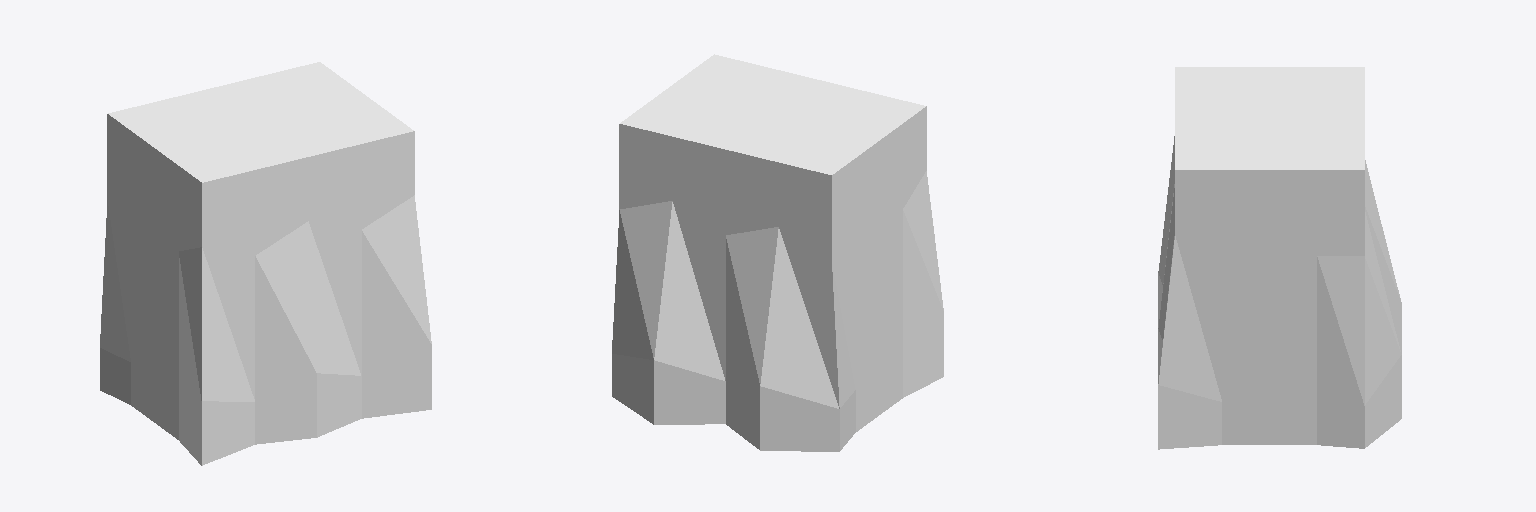
3 renders of one model, left to right at view 1: azimuth 30°, elevation 25°; view 2: azimuth 150°, elevation 25°; view 3: azimuth 270°, elevation 25°, orthographic.
Visible parts, largest first — view 1: water2; view 2: water2; view 3: water2.
Boxes of the visible parts, box(x1,y1,x2,y2) form: water2: box(100, 62, 431, 465); water2: box(612, 54, 943, 451); water2: box(1158, 67, 1401, 449).
Size of the model in its own units: 89.88 by 102 by 82.17.
Materials: 1 (1 with a texture image).